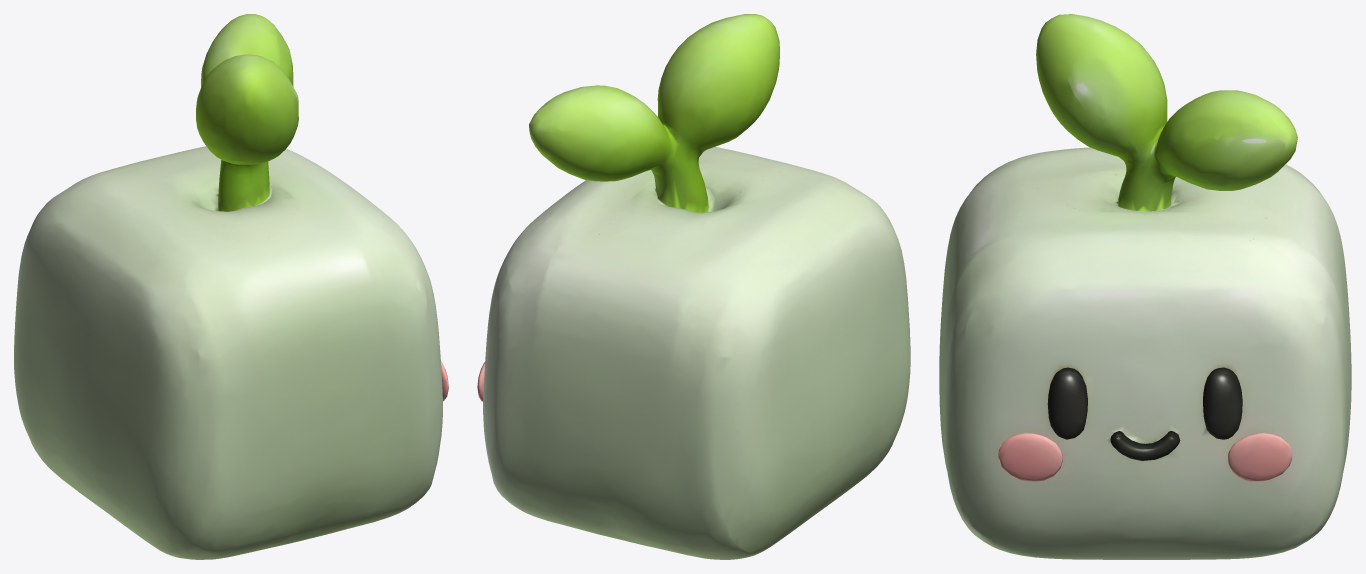
Rendered from PetBabySlime_raw.glb.
3 renders of one model, left to right at view 1: azimuth 30°, elevation 25°; view 2: azimuth 150°, elevation 25°; view 3: azimuth 270°, elevation 25°, orthographic. The views are drawn at different scales.
Parts seen in each view (by area): view 1: tripo_node_70254c68-cef4-42f1-875e-7630ad832673; view 2: tripo_node_70254c68-cef4-42f1-875e-7630ad832673; view 3: tripo_node_70254c68-cef4-42f1-875e-7630ad832673.
Boxes of the visible parts, bbox=[...] form: tripo_node_70254c68-cef4-42f1-875e-7630ad832673: bbox=[14, 14, 448, 559]; tripo_node_70254c68-cef4-42f1-875e-7630ad832673: bbox=[477, 14, 910, 559]; tripo_node_70254c68-cef4-42f1-875e-7630ad832673: bbox=[939, 14, 1351, 559].
Bounding box in the file's own units: 0.7093 × 1 × 0.7742.
Materials: 1 (1 with a texture image).
